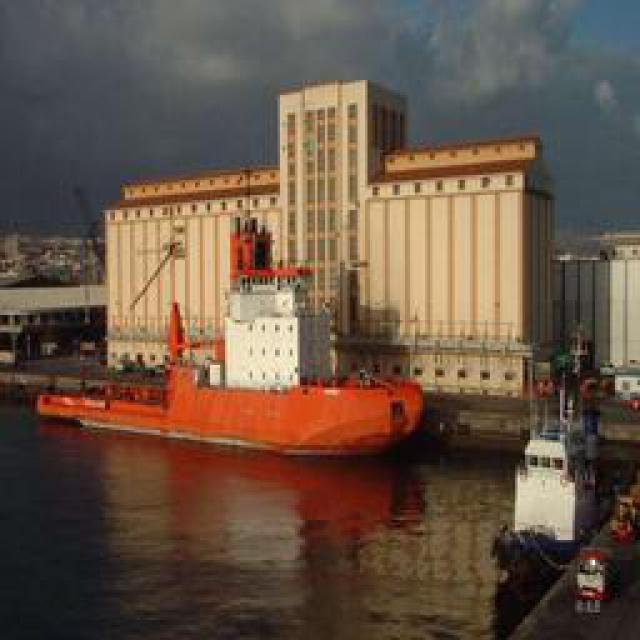Ship: (33, 212, 434, 465), (485, 337, 626, 595)
